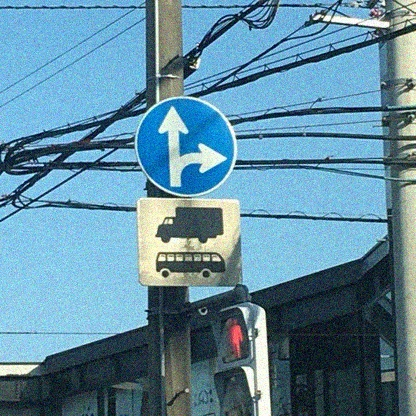Direction_sign: (121, 87, 267, 206)
